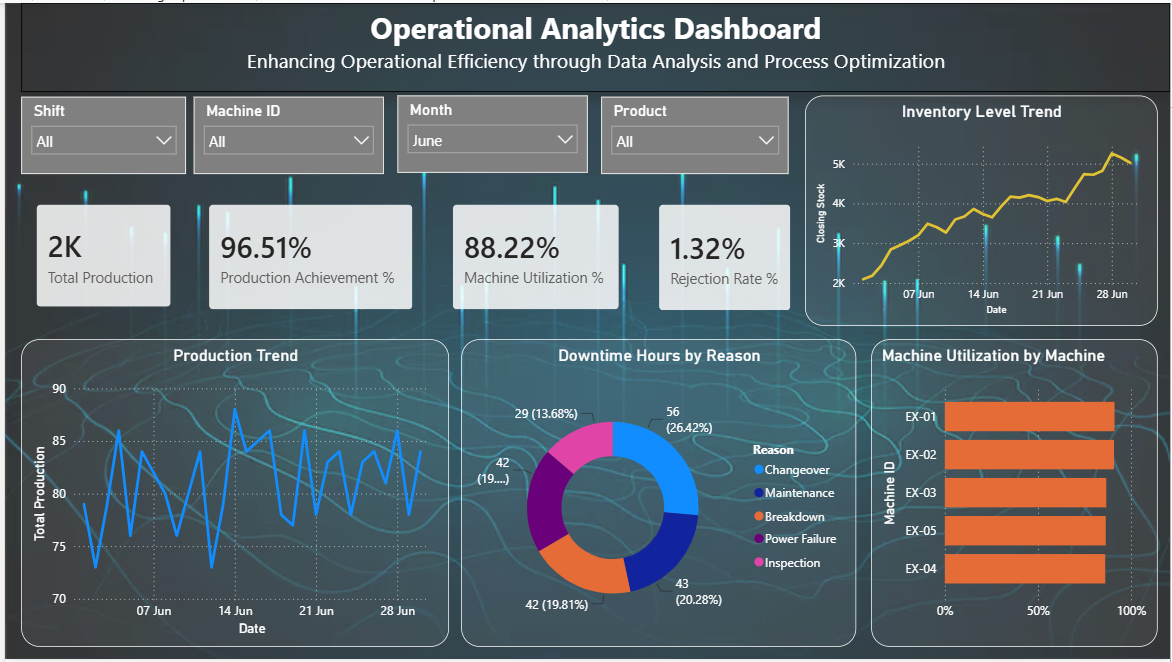

The dashboard page shown, as its layout file describes it:
{"tool":"powerbi","page":{"name":"Executive Dashboard","canvas":[1280,720],"ordinal":0},"visuals":[{"type":"cardVisual","fields":{"Data":["Measures (2).Total Production"]},"box":[17.8,204.5,181.1,146.8],"z":0},{"type":"cardVisual","fields":{"Data":["Measures (2).Production Achievement %"]},"box":[207.2,204.5,258,149.6],"z":1000},{"type":"cardVisual","fields":{"Data":["Measures (2).Machine Utilization %"]},"box":[474.8,204.5,216.8,149.6],"z":2000},{"type":"cardVisual","fields":{"Data":["Measures (2).Rejection Rate %"]},"box":[701.2,204.5,178.4,150.9],"z":3000},{"type":"textbox","box":[17.8,0,1262.4,97.4],"z":4000},{"type":"slicer","fields":{"Values":["Calendar.Month"]},"box":[430.9,101.5,208.6,85.1],"z":5000},{"type":"slicer","fields":{"Values":["Production_Data.Shift"]},"box":[17.8,102.9,181.1,85.1],"z":6000},{"type":"slicer","fields":{"Values":["Production_Data.Product"]},"box":[654.5,102.9,205.8,85.1],"z":7000},{"type":"slicer","fields":{"Values":["Production_Data.Machine ID"]},"box":[207.2,102.9,208.6,85.1],"z":8000},{"type":"lineChart","title":"Production Trend","fields":{"Category":["Calendar.Date"],"Y":["Measures (2).Total Production"]},"box":[17.8,369.1,469.3,337.6],"z":9000},{"type":"clusteredBarChart","title":"Machine Utilization by Machine ","fields":{"Category":["Machine_Data.Machine ID"],"Y":["Measures (2).Machine Utilization %"]},"box":[950.9,369.1,314.2,337.6],"z":10000},{"type":"donutChart","fields":{"Category":["Machine_Data.Reason"],"Y":["Measures (2).Downtime Hours"]},"box":[500.9,369.1,433.6,337.6],"z":11000},{"type":"lineChart","title":"Inventory Level Trend","fields":{"Category":["Calendar.Date"],"Y":["Measures (2).Closing Stock"]},"box":[878.2,101.5,387,252.5],"z":12000}]}

Visuals, with their boxes in screenshot pixels (x1, y1, x2, y2), scaled from the page's 1280x720 canvas onto the 1172x662 screenshot:
cardVisual - Measures (2).Total Production: detection(16, 188, 182, 323)
cardVisual - Measures (2).Production Achievement %: detection(190, 188, 426, 326)
cardVisual - Measures (2).Machine Utilization %: detection(435, 188, 633, 326)
cardVisual - Measures (2).Rejection Rate %: detection(642, 188, 805, 327)
textbox: detection(16, 0, 1171, 90)
slicer - Calendar.Month: detection(395, 93, 586, 172)
slicer - Production_Data.Shift: detection(16, 95, 182, 173)
slicer - Production_Data.Product: detection(599, 95, 788, 173)
slicer - Production_Data.Machine ID: detection(190, 95, 381, 173)
"Production Trend" lineChart: detection(16, 339, 446, 650)
"Machine Utilization by Machine " clusteredBarChart: detection(871, 339, 1158, 650)
donutChart - Machine_Data.Reason x Measures (2).Downtime Hours: detection(459, 339, 856, 650)
"Inventory Level Trend" lineChart: detection(804, 93, 1158, 325)
